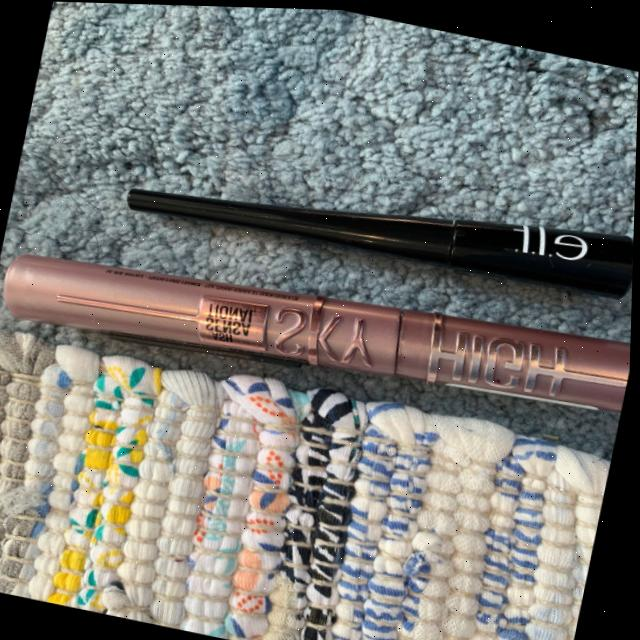eye liner: (80, 85, 638, 320)
mascara: (0, 189, 636, 466)
